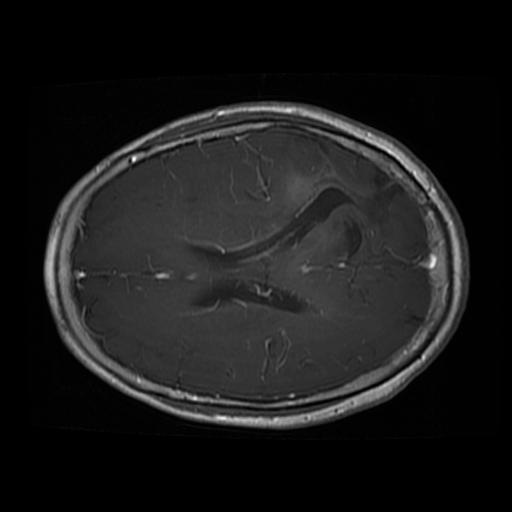glioma: (274, 168, 359, 247)
